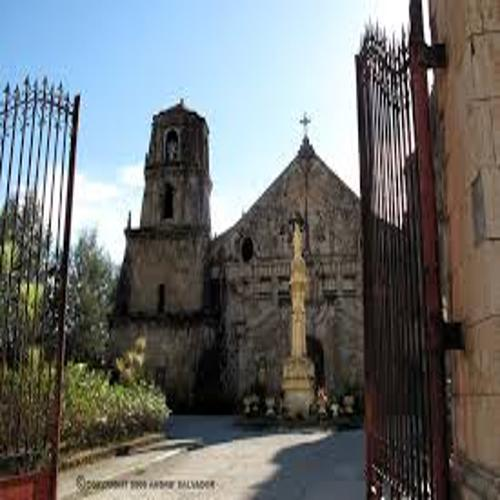Miagao Church: (105, 87, 456, 429)
